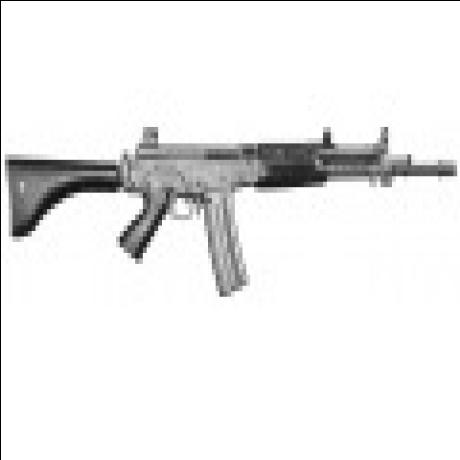weapon: (0, 120, 460, 302)
